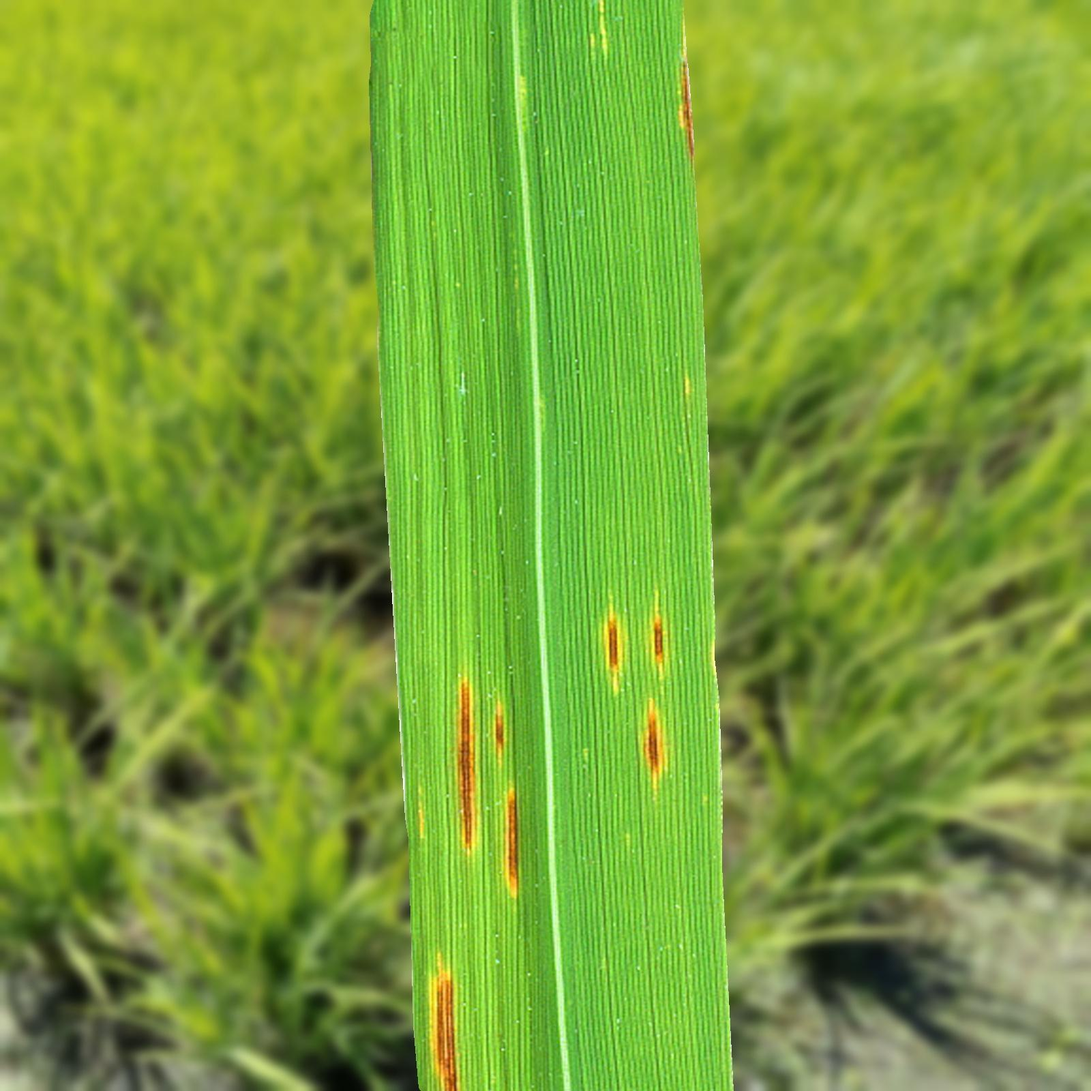LEAF: (369, 0, 733, 1090)
NBS: (437, 978, 456, 1089), (461, 685, 472, 851), (680, 57, 694, 160), (508, 790, 519, 891), (649, 712, 658, 773), (609, 619, 617, 669), (654, 621, 663, 659), (496, 709, 504, 750)
